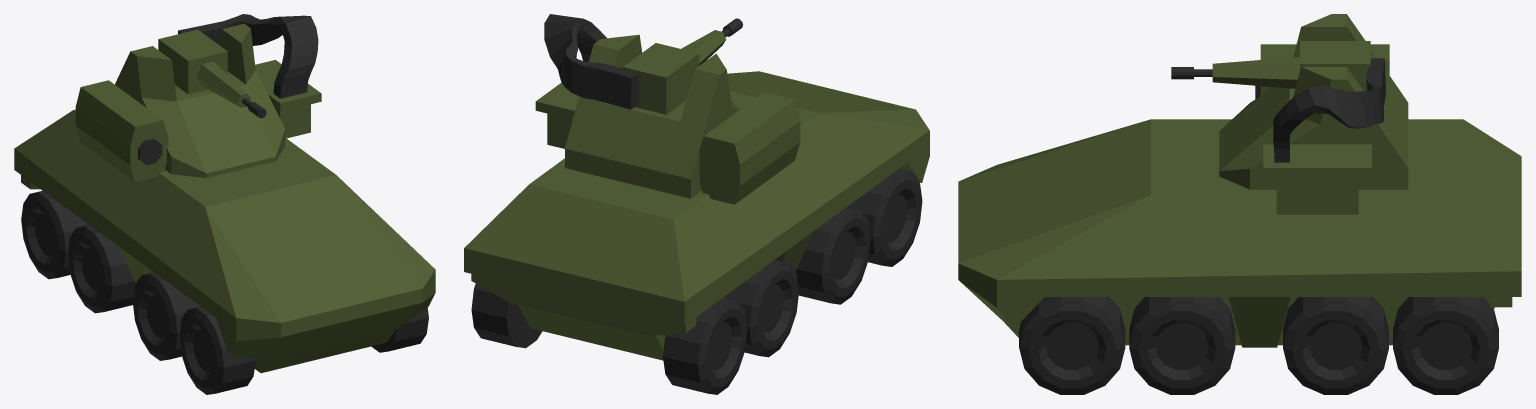
File: AntiInfantry.gltf
3 views of the same model, side by side, from view 1: azimuth 30°, elevation 25°; view 2: azimuth 150°, elevation 25°; view 3: azimuth 270°, elevation 25° (orthographic). The views are drawn at different scales.
Parts seen in each view (by area): view 1: Body, Turret, Cylinder.005, Cylinder.007, Cannon, Cylinder.004, Cylinder.006, Cylinder.003; view 2: Body, Turret, Cylinder.004, Cylinder.006, Cannon, Cylinder.007, Cylinder.005, Cylinder; view 3: Body, Turret, Cylinder.002, Cylinder, Cylinder.001, Cylinder.003, Cannon.
Boxes of the visible parts, x1=… form: Body: x1=14, y1=109, x2=435, y2=373; Turret: x1=75, y1=14, x2=321, y2=181; Cylinder.005: x1=67, y1=225, x2=135, y2=313; Cylinder.007: x1=179, y1=306, x2=255, y2=394; Cannon: x1=158, y1=29, x2=266, y2=118; Cylinder.004: x1=21, y1=191, x2=88, y2=279; Cylinder.006: x1=132, y1=272, x2=200, y2=360; Cylinder.003: x1=371, y1=308, x2=428, y2=352; Body: x1=464, y1=71, x2=929, y2=360; Turret: x1=535, y1=14, x2=800, y2=204; Cylinder.004: x1=663, y1=297, x2=747, y2=394; Cylinder.006: x1=795, y1=206, x2=870, y2=304; Cannon: x1=623, y1=18, x2=742, y2=114; Cylinder.007: x1=847, y1=169, x2=922, y2=266; Cylinder.005: x1=724, y1=259, x2=798, y2=357; Cylinder: x1=471, y1=283, x2=542, y2=348; Body: x1=958, y1=119, x2=1521, y2=347; Turret: x1=1219, y1=14, x2=1408, y2=214; Cylinder.002: x1=1129, y1=297, x2=1235, y2=394; Cylinder: x1=1393, y1=297, x2=1498, y2=394; Cylinder.001: x1=1283, y1=297, x2=1388, y2=394; Cylinder.003: x1=1019, y1=297, x2=1125, y2=394; Cannon: x1=1171, y1=41, x2=1370, y2=91.
Bounding box in the file's own units: 3.18 × 3.56 × 6.11.
